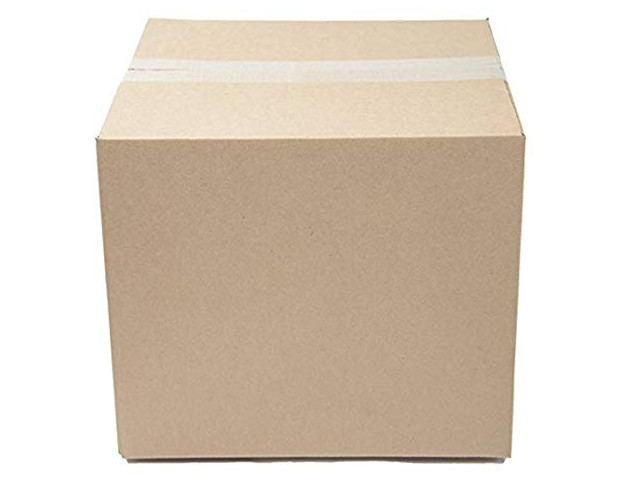cardboard: (94, 19, 526, 454)
